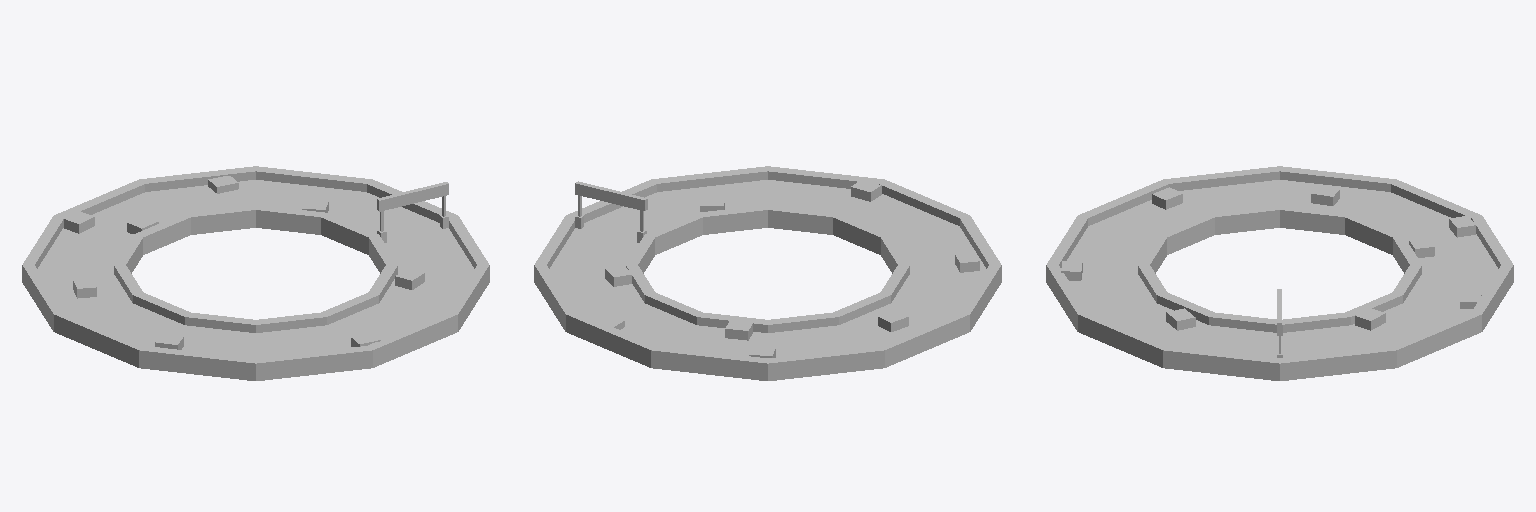
File: TrackFlat_Triangles.obj
3 views of the same model, side by side, from view 1: azimuth 30°, elevation 25°; view 2: azimuth 150°, elevation 25°; view 3: azimuth 270°, elevation 25° (orthographic).
Parts seen in each view (by area): view 1: Mesh polySurface12, Mesh polySurface3; view 2: Mesh polySurface12, Mesh polySurface3; view 3: Mesh polySurface12.
Boxes of the visible parts, box(x1,y1,x2,y2) form: Mesh polySurface12: box(22, 166, 489, 380); Mesh polySurface3: box(377, 182, 448, 211); Mesh polySurface12: box(534, 166, 1001, 380); Mesh polySurface3: box(575, 181, 647, 210); Mesh polySurface12: box(1046, 166, 1513, 380).
Size of the model in its own units: 3.02 by 0.3812 by 3.02.